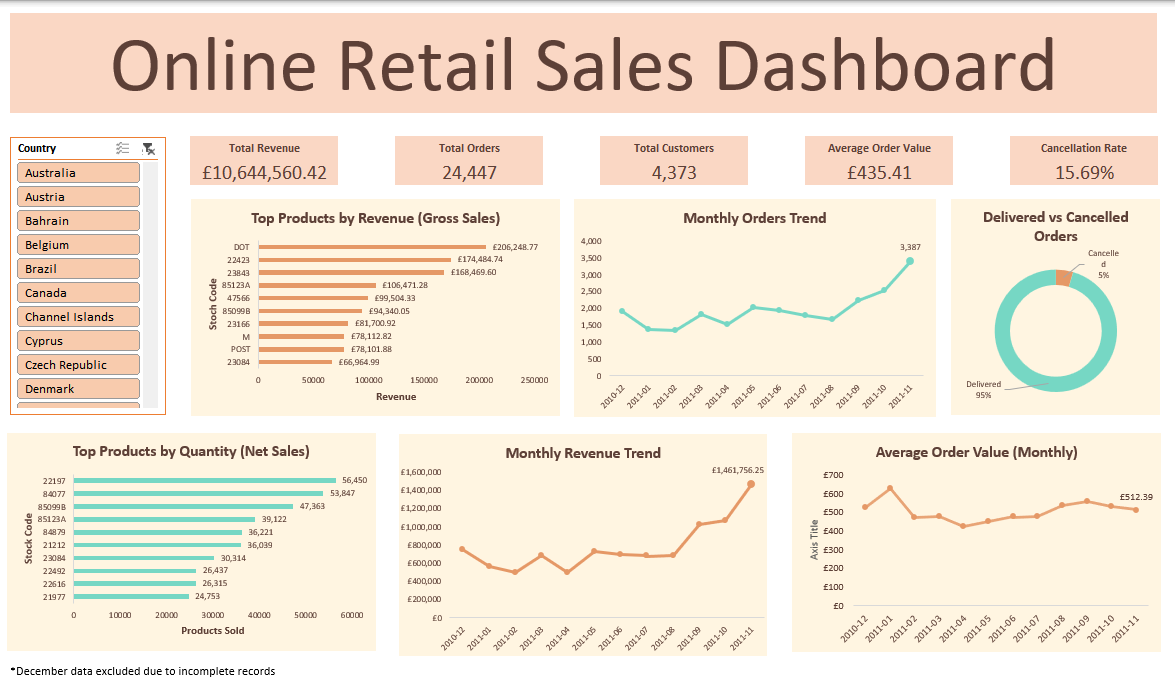

The dashboard page shown, as its layout file describes it:
{"tool":"tableau","page":{"name":"Dashboard 1","canvas":[1500,1200],"ordinal":0},"visuals":[{"type":"text","box":[20,20,1460,47]},{"type":"worksheet","title":"RevenueKPI","mark":"Text","box":[20,67,292,120]},{"type":"worksheet","title":"OrdersKPI","mark":"Automatic","box":[312,67,292,120]},{"type":"worksheet","title":"CustomersKPI","mark":"Automatic","box":[604,67,292,120]},{"type":"worksheet","title":"AovKPI","mark":"Automatic","box":[896,67,292,120]},{"type":"worksheet","title":"CancellationKPI","mark":"Automatic","box":[1188,67,292,120]},{"type":"worksheet","title":"MonthlyRevenue","mark":"Automatic","rows":["TotalRevenue"],"cols":["YearMonth"],"box":[30,197,720,179]},{"type":"worksheet","title":"MonthlyOrders","mark":"Automatic","rows":["Calculation_2756484506544660480"],"cols":["YearMonth"],"box":[750,197,720,179]},{"type":"worksheet","title":"MonthlyAOV","mark":"Automatic","rows":["Calculation_2756484506547437570"],"cols":["YearMonth"],"box":[20,386,730,187]},{"type":"worksheet","title":"OrderStatus","mark":"Pie","rows":["Calculation_2756484510772580358","Calculation_2756484510772580358"],"box":[760,396,710,167]},{"type":"worksheet","title":"TopProductsByQuantity","mark":"Automatic","rows":["Description"],"cols":["Quantity"],"box":[750,573,730,298]},{"type":"worksheet","title":"TopProductsByRevenue","mark":"Automatic","rows":["Description"],"cols":["TotalRevenue"],"box":[30,583,710,278]},{"type":"worksheet","title":"Map","mark":"Multipolygon","box":[30,881,721,289]},{"type":"worksheet","title":"TopCountriesByRevenue","mark":"Automatic","rows":["Country"],"cols":["TotalRevenue"],"box":[751,881,719,289]}]}

Visuals, with their boxes on the page's 1500x1200 design canvas (x1, y1, x2, y2). These are canvas units, not pixel positions in the 1175x689 screenshot, which may show the page scaled, cropped or inside an application window:
text: [20,20,1480,67]
"RevenueKPI" worksheet (Text marks): [20,67,312,187]
"OrdersKPI" worksheet: [312,67,604,187]
"CustomersKPI" worksheet: [604,67,896,187]
"AovKPI" worksheet: [896,67,1188,187]
"CancellationKPI" worksheet: [1188,67,1480,187]
"MonthlyRevenue" worksheet: [30,197,750,376]
"MonthlyOrders" worksheet: [750,197,1470,376]
"MonthlyAOV" worksheet: [20,386,750,573]
"OrderStatus" worksheet (Pie marks): [760,396,1470,563]
"TopProductsByQuantity" worksheet: [750,573,1480,871]
"TopProductsByRevenue" worksheet: [30,583,740,861]
"Map" worksheet (Multipolygon marks): [30,881,751,1170]
"TopCountriesByRevenue" worksheet: [751,881,1470,1170]
